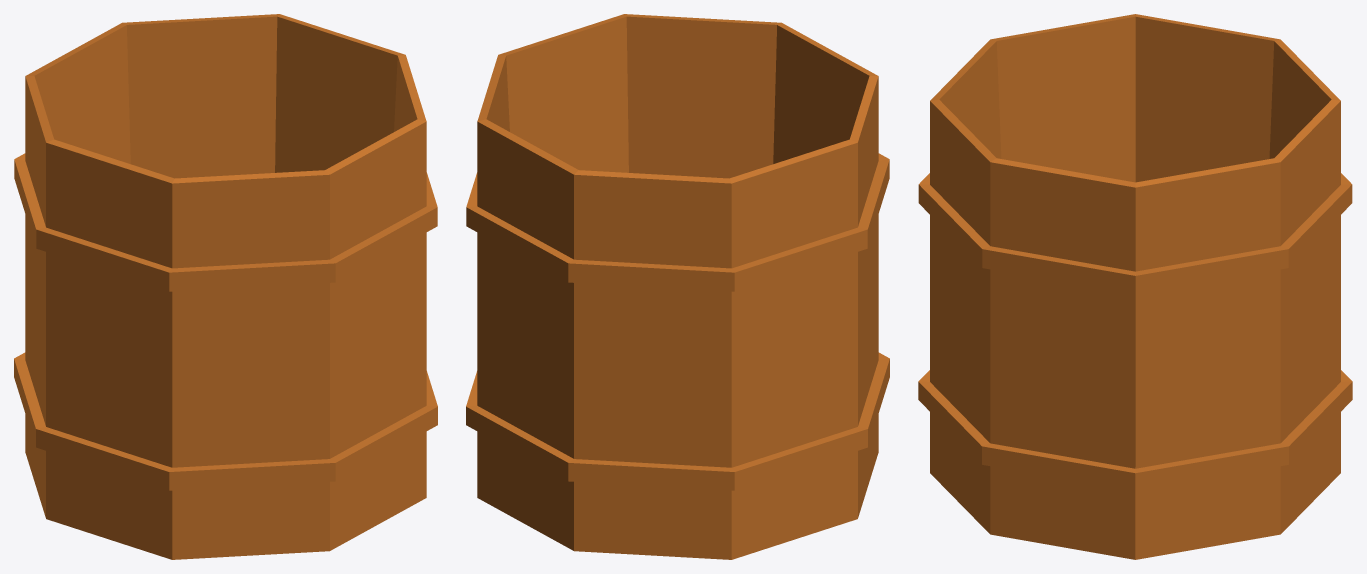
File: Barrel.fbx
3 renders of one model, left to right at view 1: azimuth 30°, elevation 25°; view 2: azimuth 150°, elevation 25°; view 3: azimuth 270°, elevation 25°, orthographic.
Parts seen in each view (by area): view 1: Cylinder; view 2: Cylinder; view 3: Cylinder.
Part boxes in pixels (left/top/right/bottom): Cylinder: left=14, top=14, right=437, bottom=559; Cylinder: left=466, top=14, right=889, bottom=559; Cylinder: left=918, top=14, right=1352, bottom=559.
Size of the model in its own units: 211 by 201 by 211.
